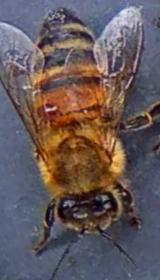varroa_mite: (31, 96, 70, 122)
